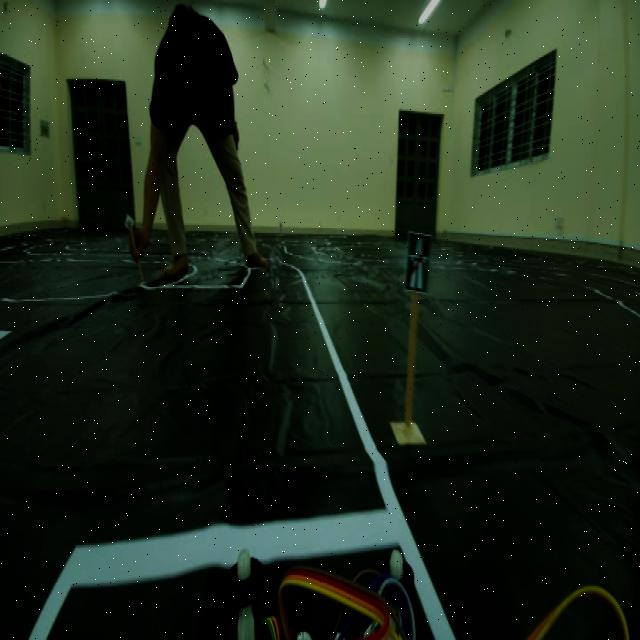highway_exit: (394, 223, 436, 301)
